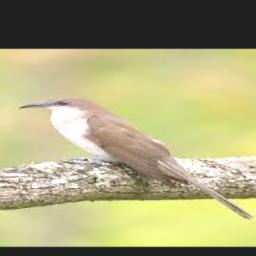Cuckoo: (19, 96, 256, 221)
